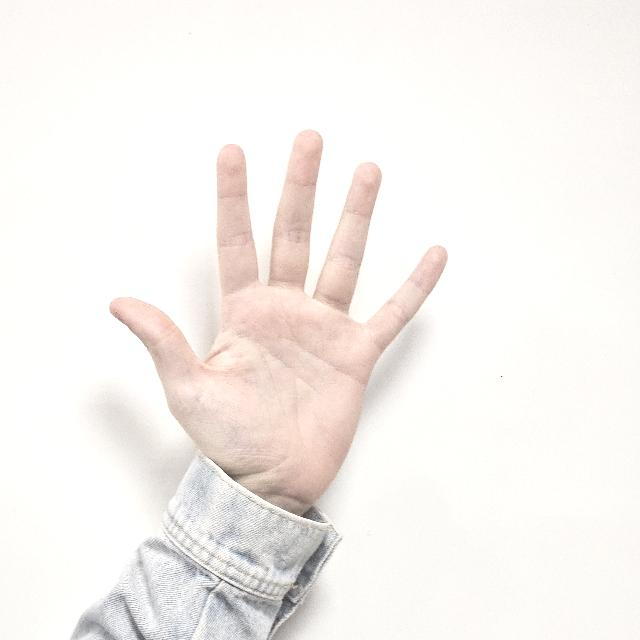X: (105, 130, 459, 512)
